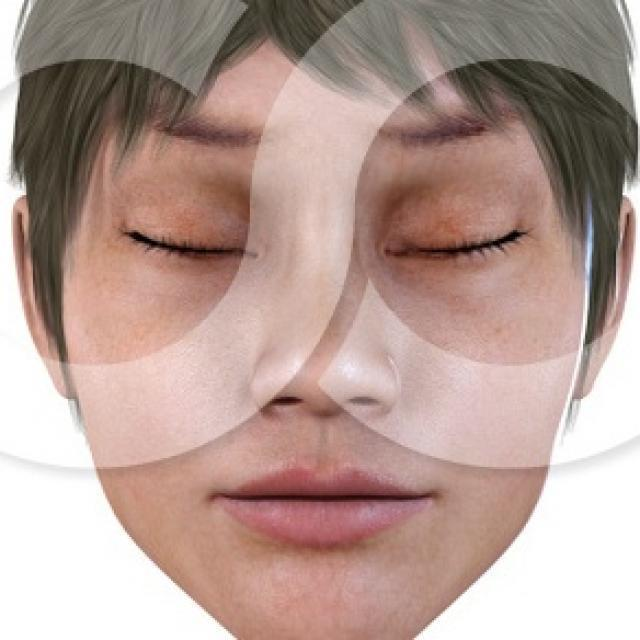close: (362, 96, 542, 276), (108, 111, 292, 278)
